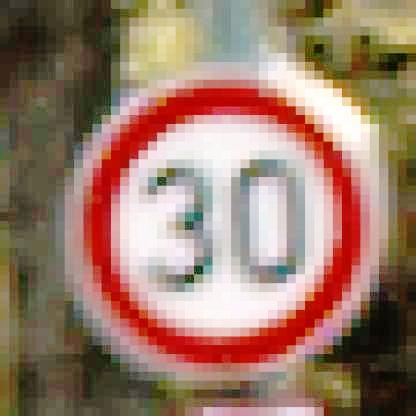Speed Limit -30-: (64, 63, 385, 379)
